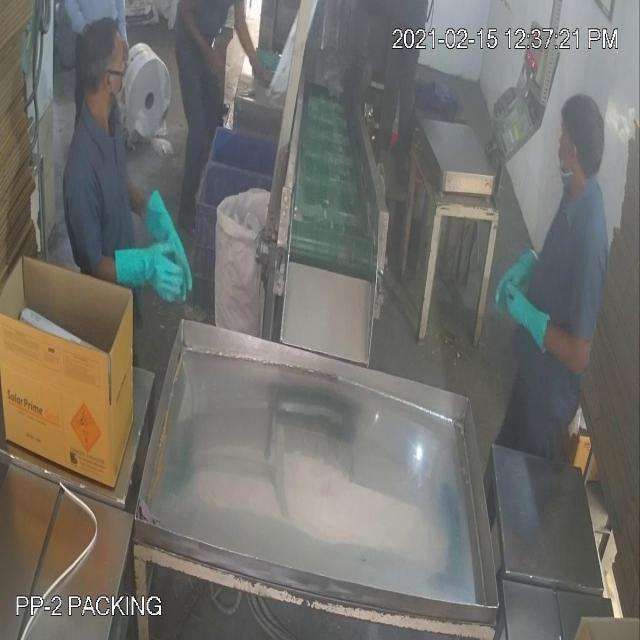Gloves: (48, 46, 528, 318)
